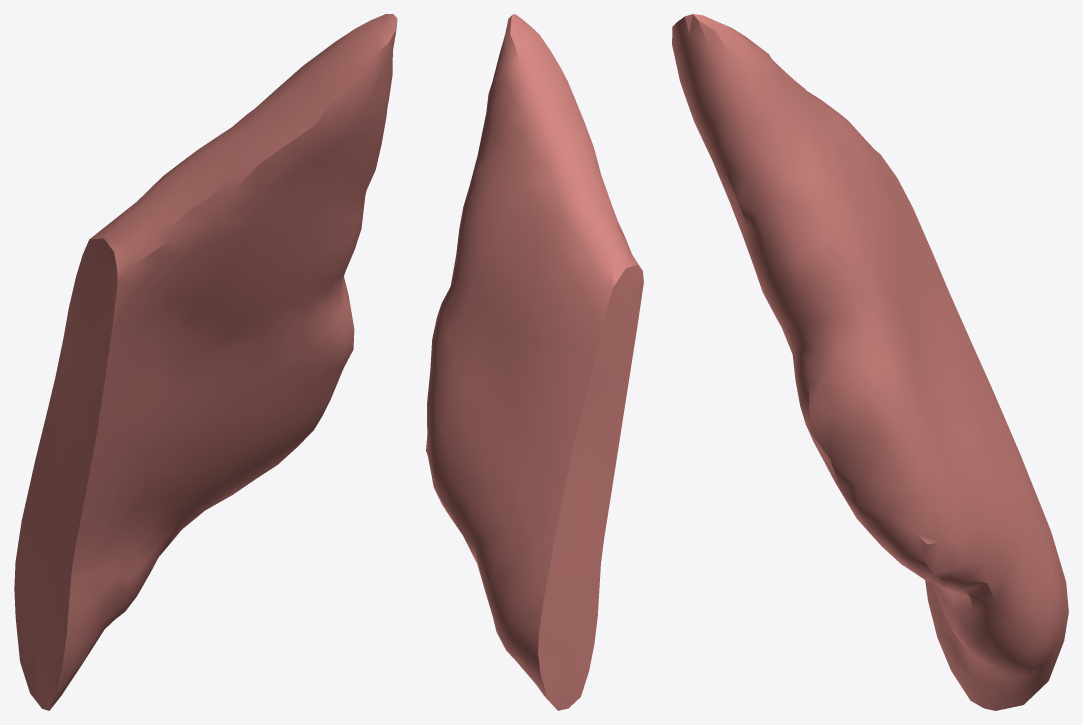
File: fma301564_mm4011m.glb
The picture shows the model from 3 angles, left to right: view 1: azimuth 30°, elevation 25°; view 2: azimuth 150°, elevation 25°; view 3: azimuth 270°, elevation 25°; orthographic projection. The views are drawn at different scales.
Visible parts, largest first — view 1: FMA301564_MM4011M; view 2: FMA301564_MM4011M; view 3: FMA301564_MM4011M.
Part boxes in pixels (x1,y1,x2,y2): FMA301564_MM4011M: [14, 14, 397, 710]; FMA301564_MM4011M: [426, 14, 643, 710]; FMA301564_MM4011M: [672, 14, 1068, 710].
Bounding box in the file's own units: 0.014 × 0.0405 × 0.018.
